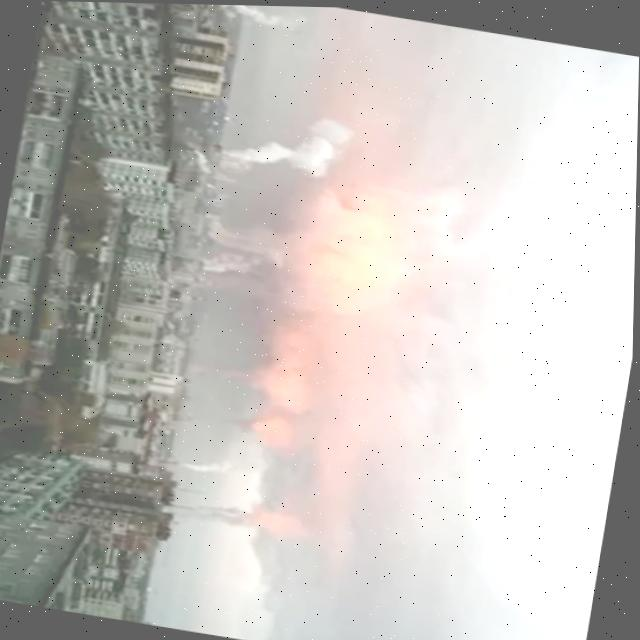Smoke: (214, 4, 640, 640)
